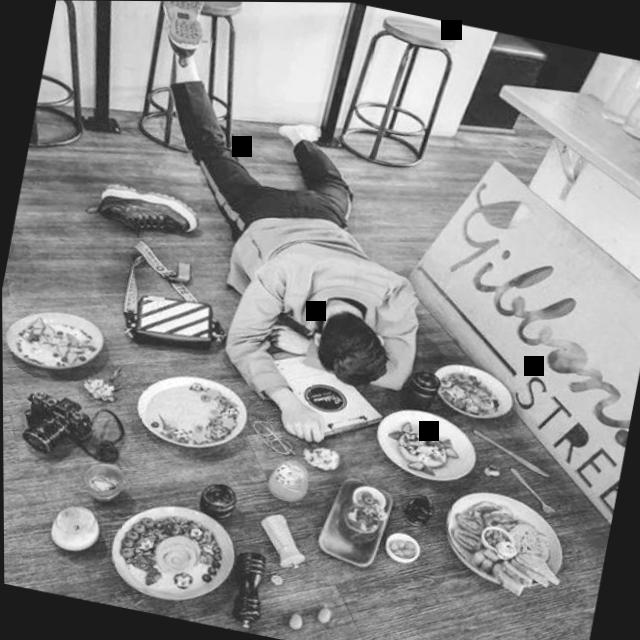Fall-Detected: (76, 0, 488, 459)
